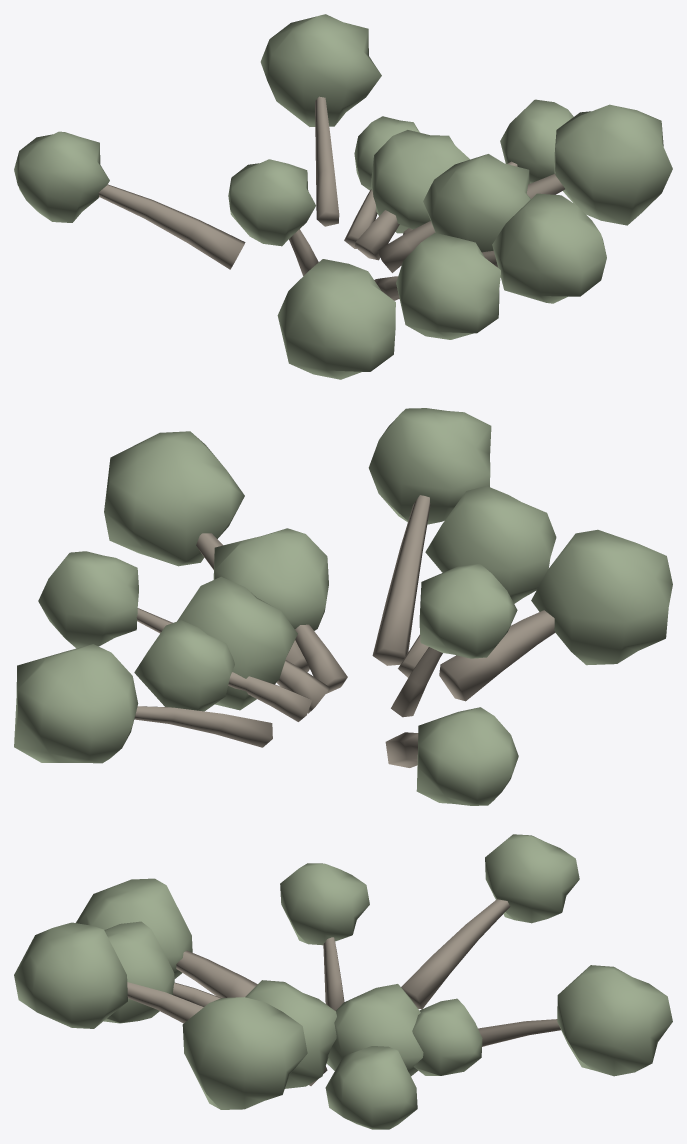
File: alpine-and-arctic-biomes-dwarf-willow-mat-e2f85734__20959.glb
3 renders of one model, top to bottom at view 1: azimuth 30°, elevation 25°; view 2: azimuth 150°, elevation 25°; view 3: azimuth 270°, elevation 25°, orthographic. The views are drawn at different scales.
Visible parts, largest first — view 1: dwarf-willow-mat; view 2: dwarf-willow-mat; view 3: dwarf-willow-mat.
Boxes of the visible parts, bbox=[...] form: dwarf-willow-mat: bbox=[14, 14, 672, 379]; dwarf-willow-mat: bbox=[14, 408, 672, 805]; dwarf-willow-mat: bbox=[14, 834, 672, 1129].
Bounding box in the file's own units: 1.12 × 0.3379 × 1.29.
